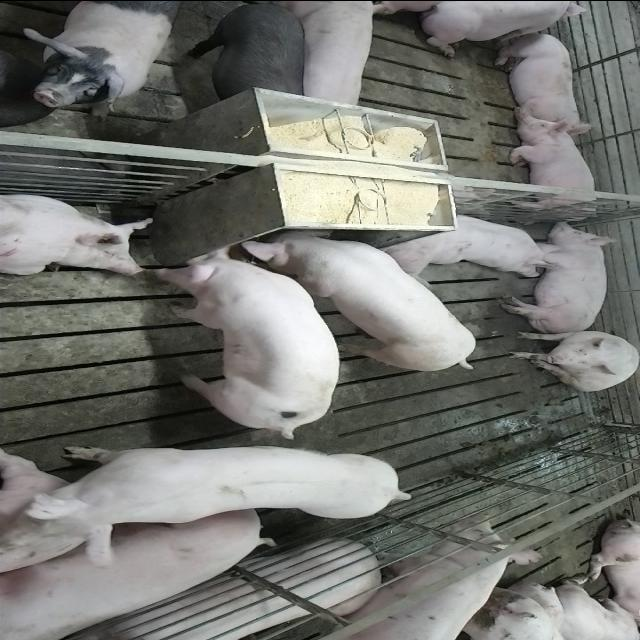Feeding: (153, 240, 341, 438), (237, 228, 478, 376)
Lateral_lying: (39, 541, 376, 640), (498, 218, 620, 334)
Sitting: (506, 328, 638, 390)
Standing: (9, 439, 413, 534), (294, 515, 540, 640), (22, 3, 177, 117), (174, 3, 310, 112), (283, 3, 377, 114)
Sternal_lying: (0, 191, 153, 277), (380, 210, 566, 274), (410, 2, 600, 56), (490, 29, 590, 131), (505, 117, 604, 215)
